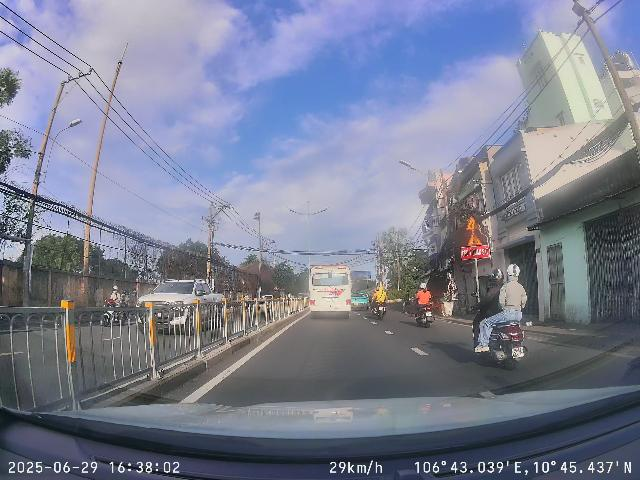201-cho-ngoat-nguy-hiem: (466, 216, 479, 230)
245-di-cham: (468, 231, 482, 245)
